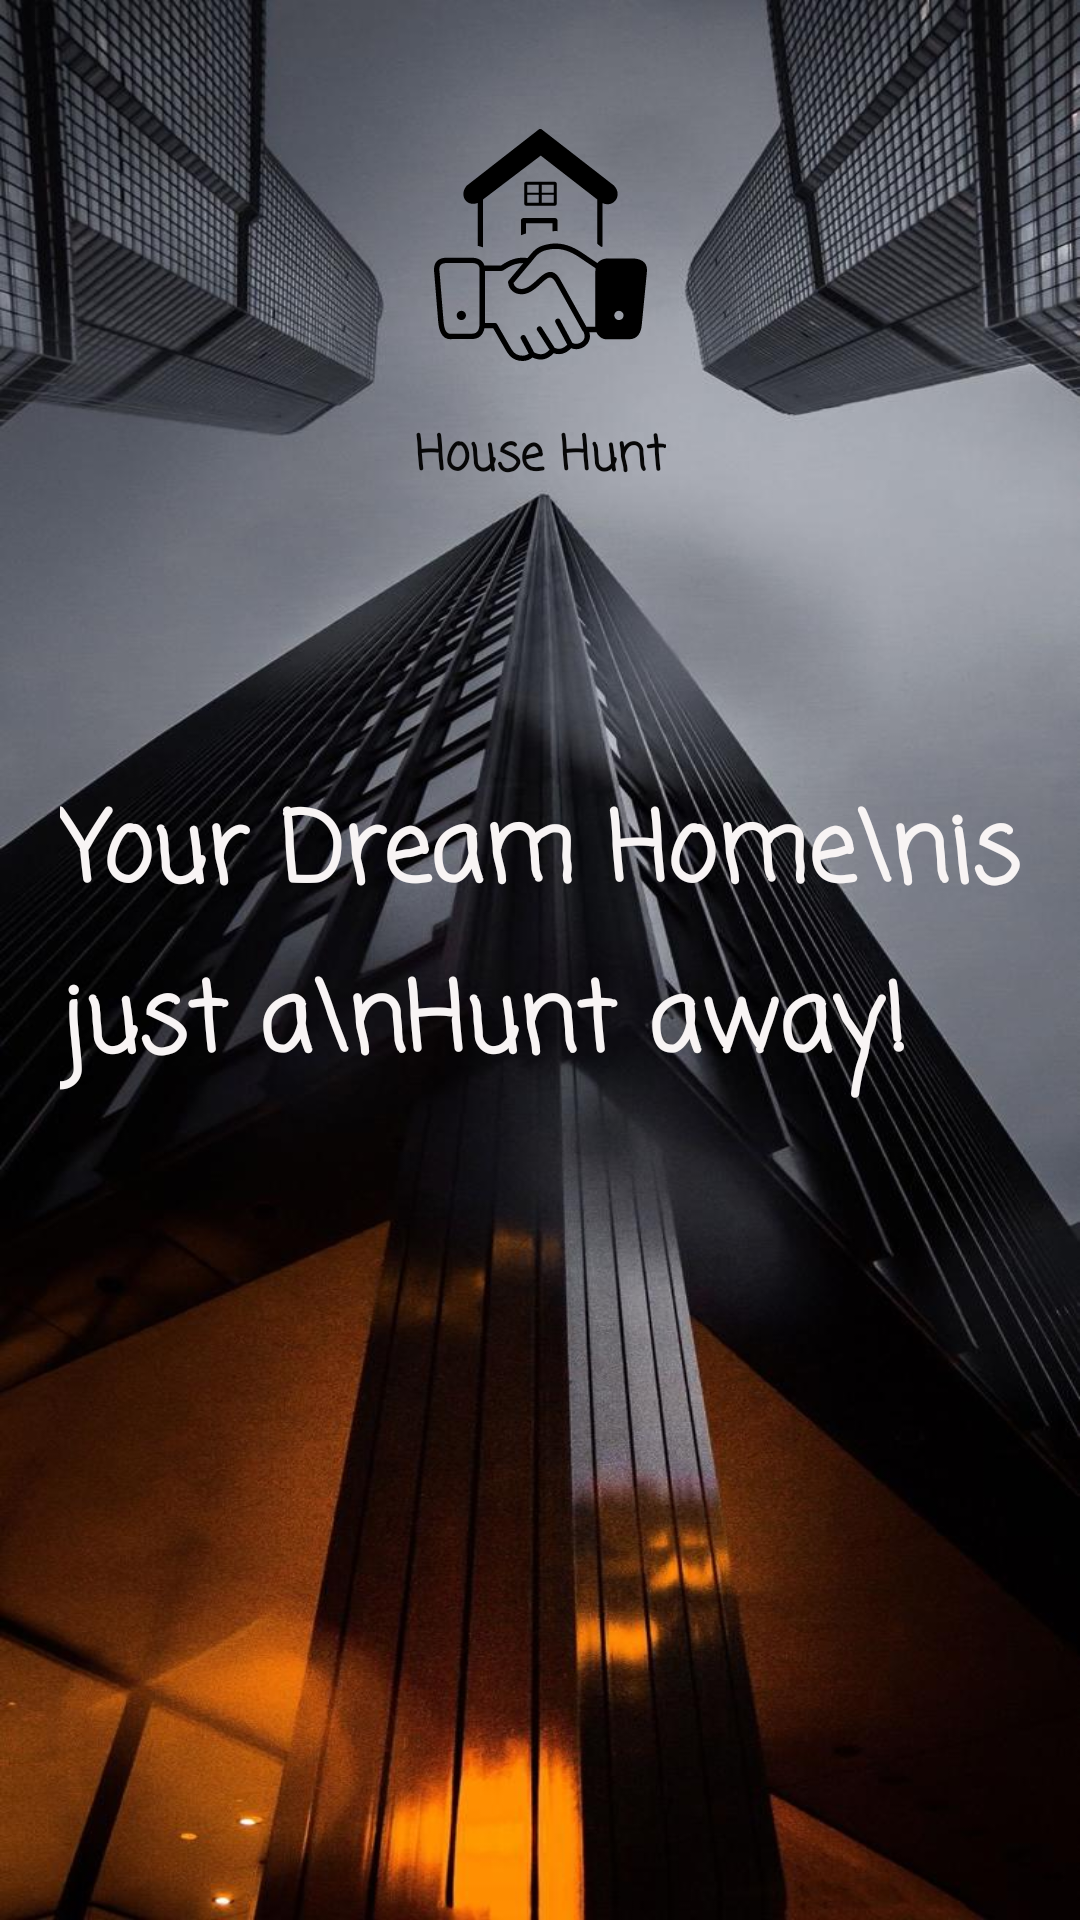

Where to tap for icons on this 1080*1920 app screen, as (x,y):
dealericon: (540,245)
